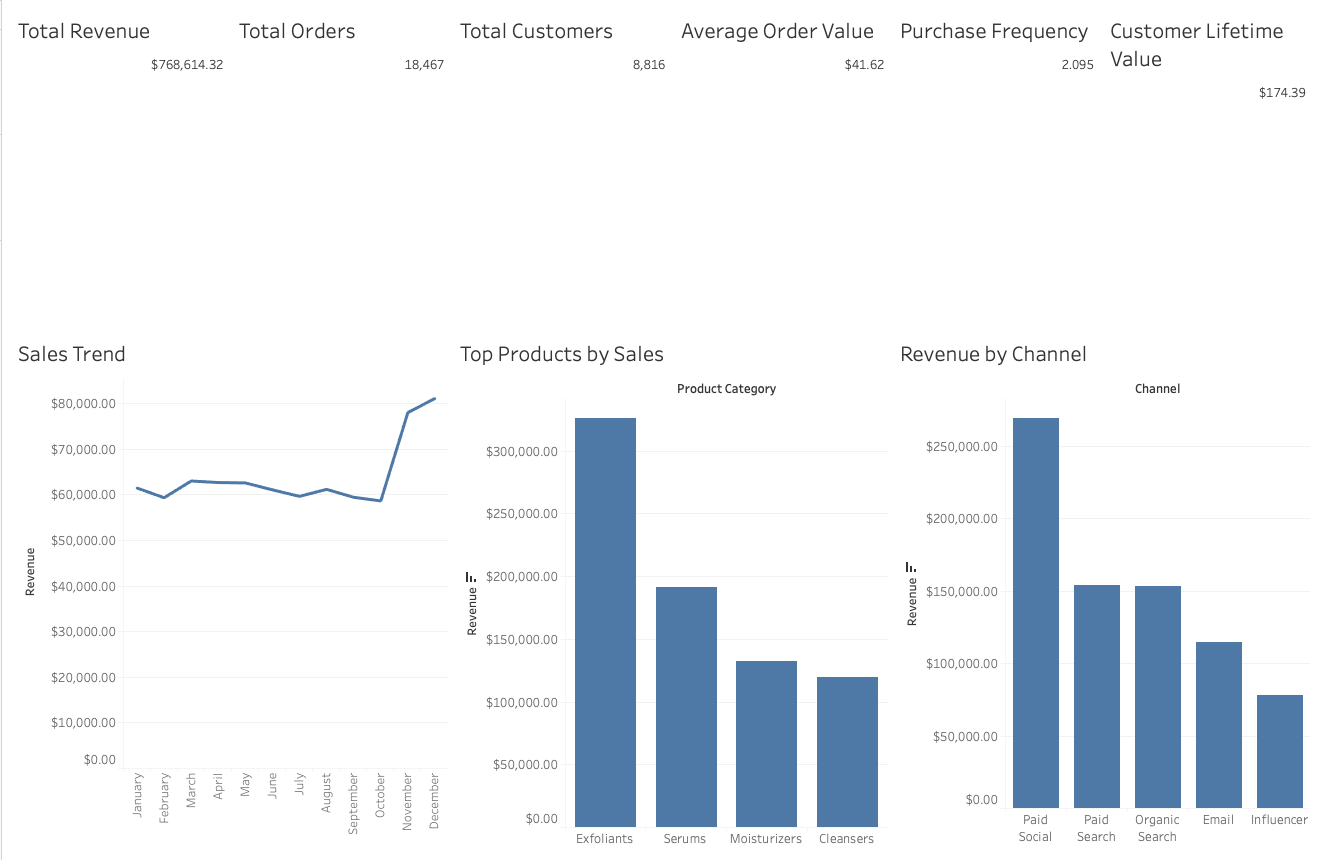

Layout of this report page (visuals, bound fields, positions):
{"tool":"tableau","page":{"name":"Dashboard","canvas":[1000,1000],"units":"permille","ordinal":0},"visuals":[{"type":"worksheet","title":"Total Revenue","mark":"Automatic","box":[6.1,14.3,167.4,371.5]},{"type":"worksheet","title":"Total Orders","mark":"Automatic","box":[173.5,14.3,167.4,371.5]},{"type":"worksheet","title":"Total Customers","mark":"Automatic","box":[340.9,14.3,167.4,371.5]},{"type":"worksheet","title":"Average Order Value","mark":"Automatic","box":[508.3,14.3,165.9,371.5]},{"type":"worksheet","title":"Purchase Frequency","mark":"Automatic","box":[674.2,14.3,159.1,371.5]},{"type":"worksheet","title":"Customer Lifetime Value","mark":"Automatic","box":[833.3,14.3,160.6,371.5]},{"type":"worksheet","title":"Sales Trend","mark":"Automatic","rows":["Order_Value"],"cols":["Order_Date"],"box":[6.1,385.8,334.9,599.9]},{"type":"worksheet","title":"Top Product","mark":"Automatic","rows":["Order_Value"],"cols":["Product_Category"],"box":[341,385.8,333.5,599.9]},{"type":"worksheet","title":"Revenue by Channel","mark":"Automatic","rows":["Order_Value"],"cols":["Channel"],"box":[674.5,385.8,319.4,599.9]}]}

Visuals, with their boxes on the dashboard's canvas, which has no fixed pixel size, in thousandths of its width and height (x1, y1, x2, y2). These are canvas units, not pixel positions in the 1320x860 screenshot, which may show the page scaled, cropped or inside an application window:
"Total Revenue" worksheet: bbox=(6, 14, 174, 386)
"Total Orders" worksheet: bbox=(174, 14, 341, 386)
"Total Customers" worksheet: bbox=(341, 14, 508, 386)
"Average Order Value" worksheet: bbox=(508, 14, 674, 386)
"Purchase Frequency" worksheet: bbox=(674, 14, 833, 386)
"Customer Lifetime Value" worksheet: bbox=(833, 14, 994, 386)
"Sales Trend" worksheet: bbox=(6, 386, 341, 986)
"Top Product" worksheet: bbox=(341, 386, 674, 986)
"Revenue by Channel" worksheet: bbox=(674, 386, 994, 986)
